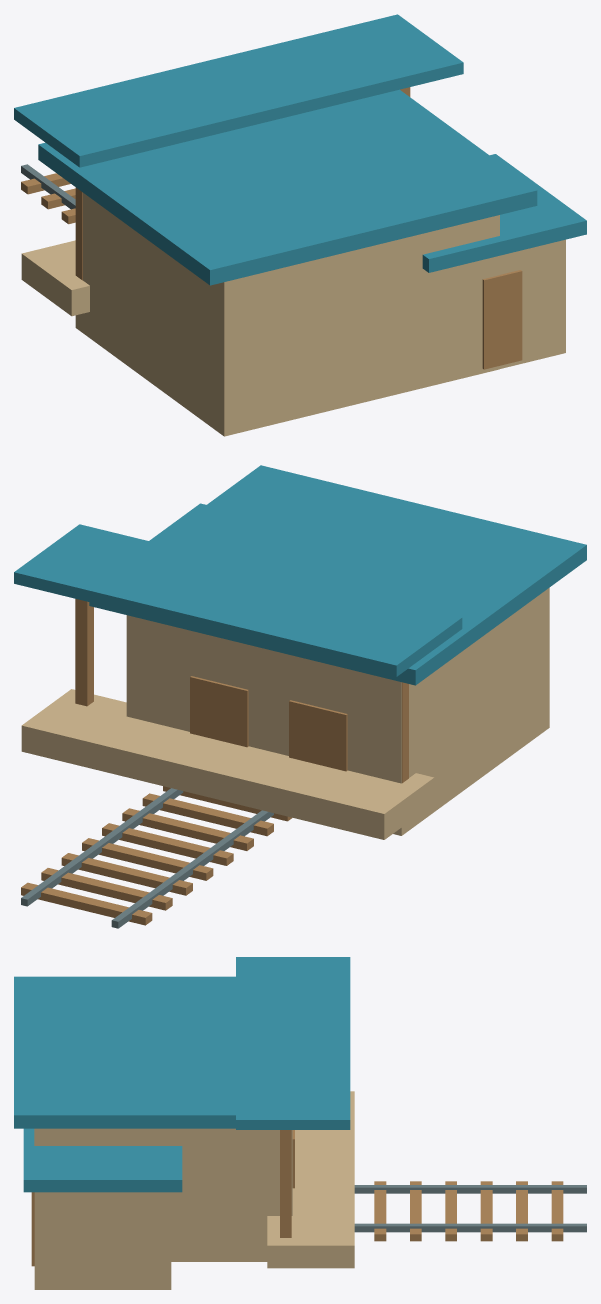
Rendered from cargo-station.source.glb.
3 views of the same model, one above another, from view 1: azimuth 30°, elevation 25°; view 2: azimuth 150°, elevation 25°; view 3: azimuth 270°, elevation 25° (orthographic). The views are drawn at different scales.
Parts seen in each view (by area): view 1: cargo-station-main-hall-mesh, cargo-station-gable-roof-mesh, cargo-station-platform-canopy-mesh, cargo-station-small-office-mesh, cargo-station-office-roof-mesh, cargo-station-office-door-mesh, cargo-station-platform-deck-mesh, cargo-station-canopy-post--2.15-mesh, cargo-station-rail--0.62-mesh; view 2: cargo-station-main-hall-mesh, cargo-station-gable-roof-mesh, cargo-station-platform-canopy-mesh, cargo-station-platform-deck-mesh, cargo-station-rail-door-0.25-mesh, cargo-station-rail-door--1.1-mesh, cargo-station-canopy-post-2.15-mesh, cargo-station-rail--0.62-mesh, cargo-station-rail-0.62-mesh, cargo-station-tie--0.10000000000000009-mesh, cargo-station-tie-0.3799999999999999-mesh, cargo-station-tie--0.5800000000000001-mesh (+5 smaller); view 3: cargo-station-gable-roof-mesh, cargo-station-platform-canopy-mesh, cargo-station-main-hall-mesh, cargo-station-small-office-mesh, cargo-station-platform-deck-mesh, cargo-station-office-roof-mesh, cargo-station-rail-0.62-mesh, cargo-station-rail--0.62-mesh, cargo-station-canopy-post-2.15-mesh, cargo-station-tie--1.54-mesh, cargo-station-tie--0.10000000000000009-mesh, cargo-station-tie--2.5-mesh (+3 smaller).
Part boxes in pixels (box(x1,y1,x2,y2)): cargo-station-main-hall-mesh: box(75, 193, 499, 436); cargo-station-gable-roof-mesh: box(38, 89, 537, 285); cargo-station-platform-canopy-mesh: box(14, 14, 463, 167); cargo-station-small-office-mesh: box(500, 239, 565, 368); cargo-station-office-roof-mesh: box(422, 154, 586, 272); cargo-station-office-door-mesh: box(482, 270, 522, 369); cargo-station-platform-deck-mesh: box(21, 240, 89, 316); cargo-station-canopy-post--2.15-mesh: box(75, 187, 82, 280); cargo-station-rail--0.62-mesh: box(21, 164, 75, 209); cargo-station-main-hall-mesh: box(126, 588, 549, 835); cargo-station-gable-roof-mesh: box(89, 465, 586, 685); cargo-station-platform-canopy-mesh: box(14, 524, 462, 676); cargo-station-platform-deck-mesh: box(21, 689, 434, 839); cargo-station-rail-door-0.25-mesh: box(190, 676, 248, 747); cargo-station-rail-door--1.1-mesh: box(289, 700, 347, 771); cargo-station-canopy-post-2.15-mesh: box(75, 599, 93, 706); cargo-station-rail--0.62-mesh: box(111, 810, 273, 928); cargo-station-rail-0.62-mesh: box(21, 788, 183, 906); cargo-station-tie--0.10000000000000009-mesh: box(122, 808, 253, 850); cargo-station-tie-0.3799999999999999-mesh: box(142, 793, 273, 836); cargo-station-tie--0.5800000000000001-mesh: box(102, 823, 233, 865); cargo-station-gable-roof-mesh: box(14, 976, 235, 1128); cargo-station-platform-canopy-mesh: box(236, 957, 350, 1129); cargo-station-main-hall-mesh: box(34, 1128, 292, 1261); cargo-station-small-office-mesh: box(34, 1192, 171, 1289); cargo-station-platform-deck-mesh: box(267, 1091, 354, 1268); cargo-station-office-roof-mesh: box(23, 1128, 182, 1192); cargo-station-rail-0.62-mesh: box(354, 1223, 586, 1232); cargo-station-rail--0.62-mesh: box(354, 1185, 586, 1193); cargo-station-canopy-post-2.15-mesh: box(280, 1130, 291, 1237); cargo-station-tie--1.54-mesh: box(480, 1181, 492, 1241); cargo-station-tie--0.10000000000000009-mesh: box(374, 1181, 386, 1241); cargo-station-tie--2.5-mesh: box(551, 1181, 563, 1241).
Size of the model in its own units: 5.23 by 2.64 by 7.77.
